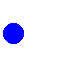circle: (3, 23, 23, 43)
